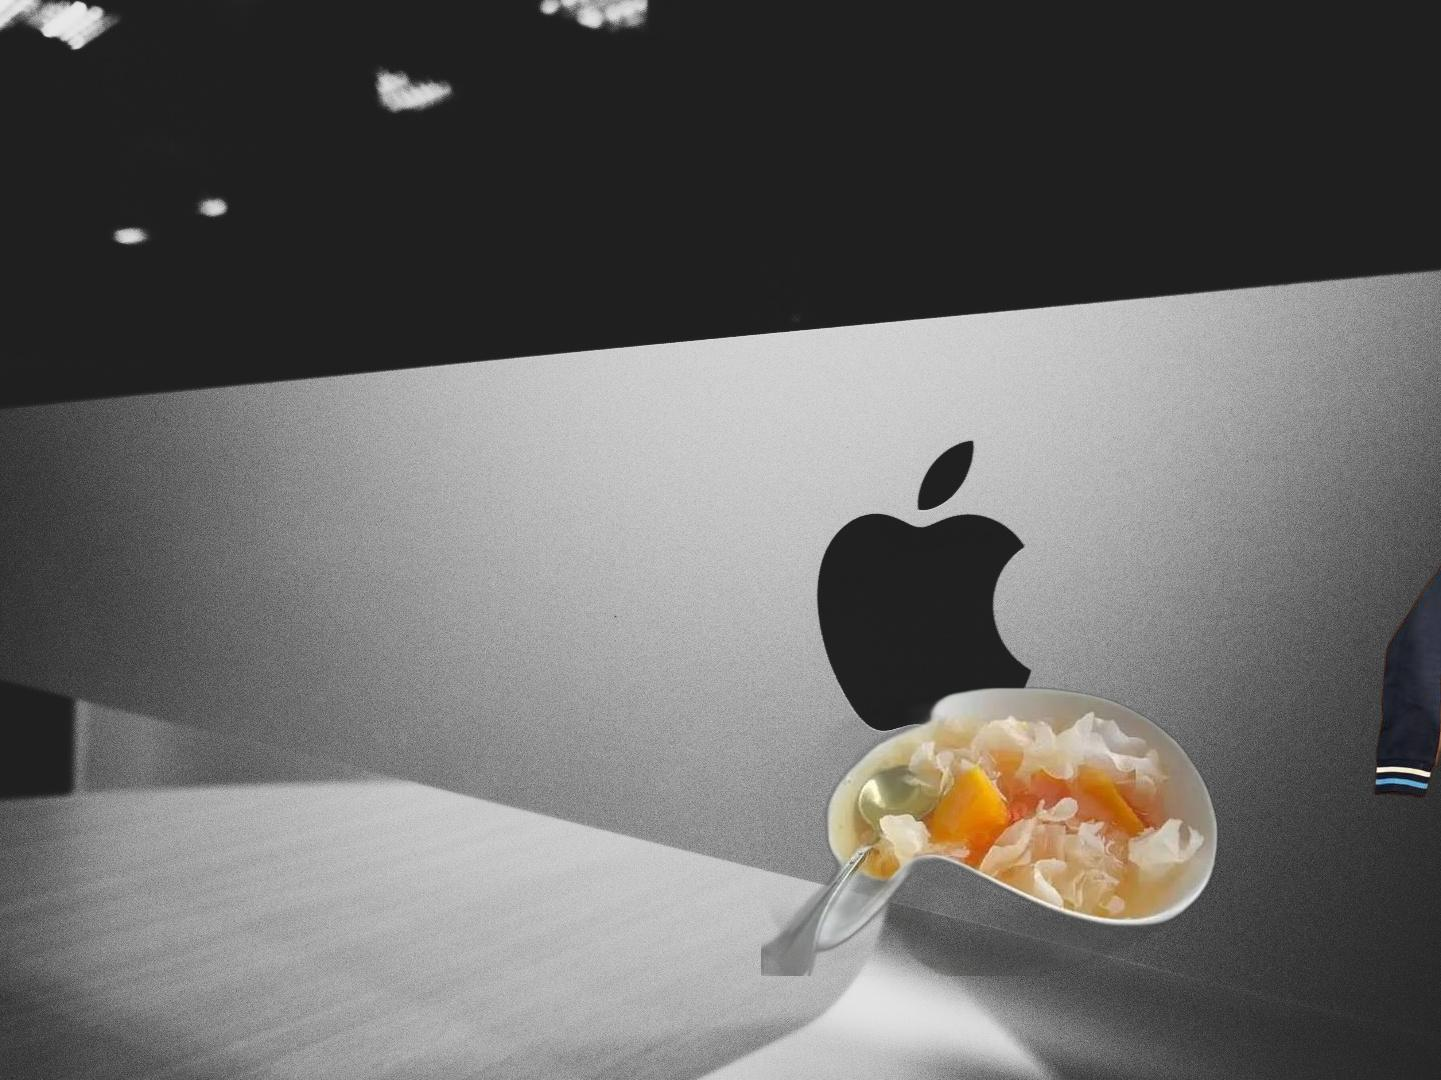biological: (761, 685, 1223, 976)
clothes: (1372, 506, 1441, 804)
